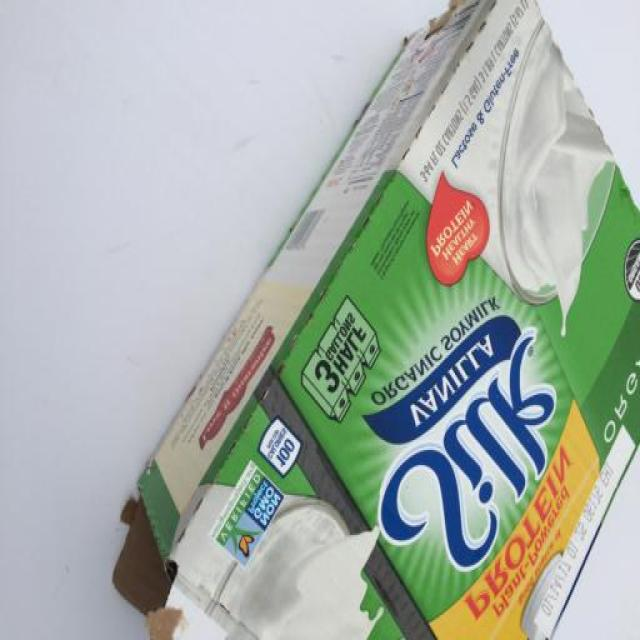cardboard: (110, 0, 640, 640)
